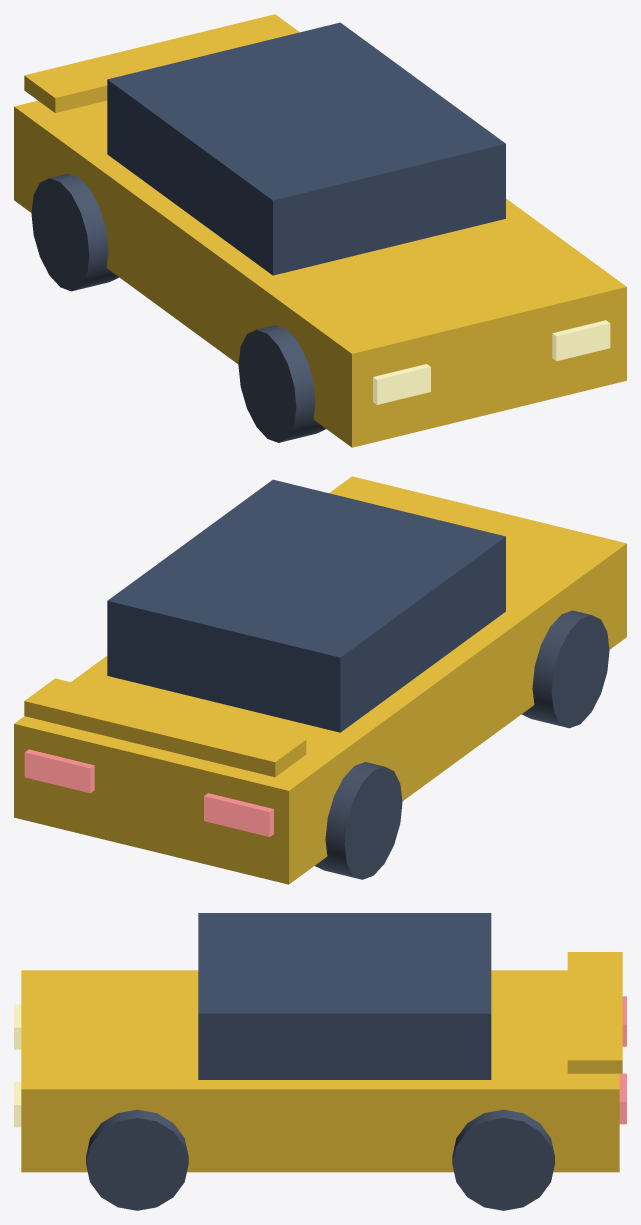
The model's file is car_3.glb.
3 views of the same model, one above another, from view 1: azimuth 30°, elevation 25°; view 2: azimuth 150°, elevation 25°; view 3: azimuth 270°, elevation 25° (orthographic). The views are drawn at different scales.
Parts seen in each view (by area): view 1: chassis, cabin, spoiler, wheel_0, wheel_2, headlight_1, headlight_0; view 2: chassis, cabin, spoiler, wheel_2, wheel_0, taillight_1, taillight_0; view 3: chassis, cabin, wheel_1, wheel_3, spoiler.
Part boxes in pixels (x1,y1,x2,y2): chassis: [14, 100, 626, 447]; cabin: [107, 22, 505, 275]; spoiler: [24, 14, 299, 112]; wheel_0: [238, 325, 325, 442]; wheel_2: [31, 173, 118, 291]; headlight_1: [552, 320, 610, 361]; headlight_0: [373, 364, 430, 404]; chassis: [14, 476, 626, 884]; cabin: [107, 479, 505, 732]; spoiler: [24, 678, 306, 777]; wheel_2: [315, 762, 402, 879]; wheel_0: [522, 610, 609, 728]; taillight_1: [24, 749, 94, 793]; taillight_0: [204, 793, 273, 836]; chassis: [21, 970, 619, 1172]; cabin: [198, 913, 491, 1079]; wheel_1: [86, 1109, 188, 1210]; wheel_3: [452, 1109, 554, 1210]; spoiler: [567, 952, 622, 1073].
Bounding box in the file's own units: 2.62 × 1.62 × 5.02.
